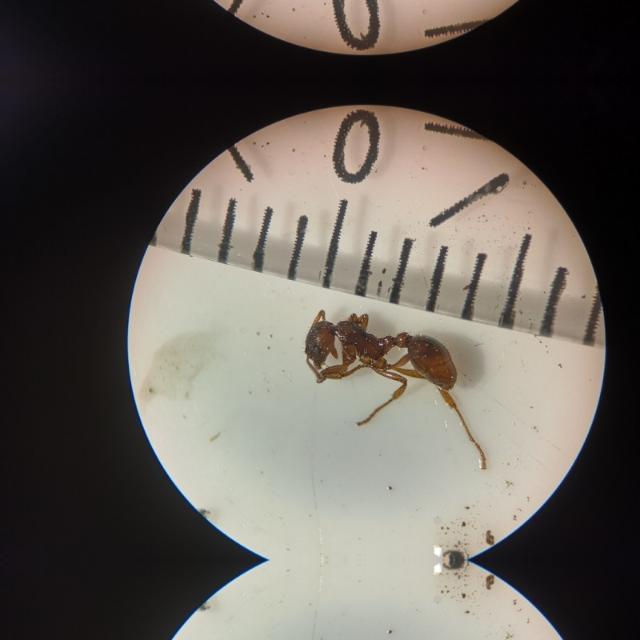Myrmica: (300, 300, 492, 440)
